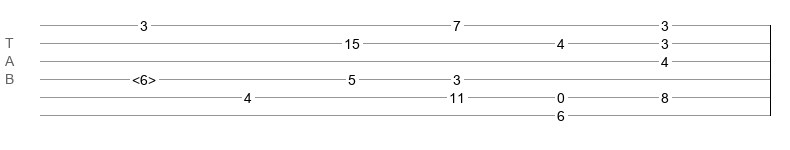0: (557, 90, 565, 100)
11: (449, 90, 465, 100)
15: (344, 36, 360, 46)
3: (140, 18, 148, 28), (453, 72, 461, 82), (661, 18, 669, 28), (661, 36, 669, 46)
4: (244, 90, 252, 100), (557, 36, 565, 46), (661, 54, 669, 64)
5: (348, 72, 356, 82)
6: (557, 108, 565, 118)
7: (453, 18, 461, 28)
8: (661, 90, 669, 100)
harmonic: (132, 72, 156, 82)
